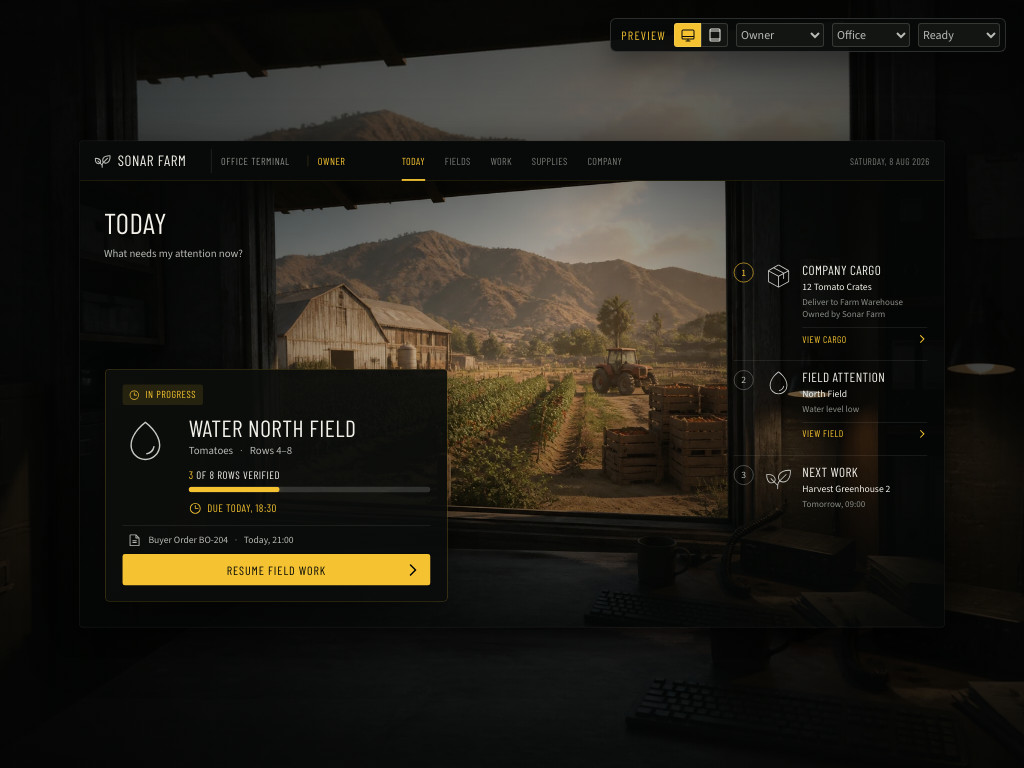
Test case: Farm Business Hub › switches surface without replacing the app content
Step 1. Click the button named "Farm Tablet" → (714, 35), box [701,23,728,47]
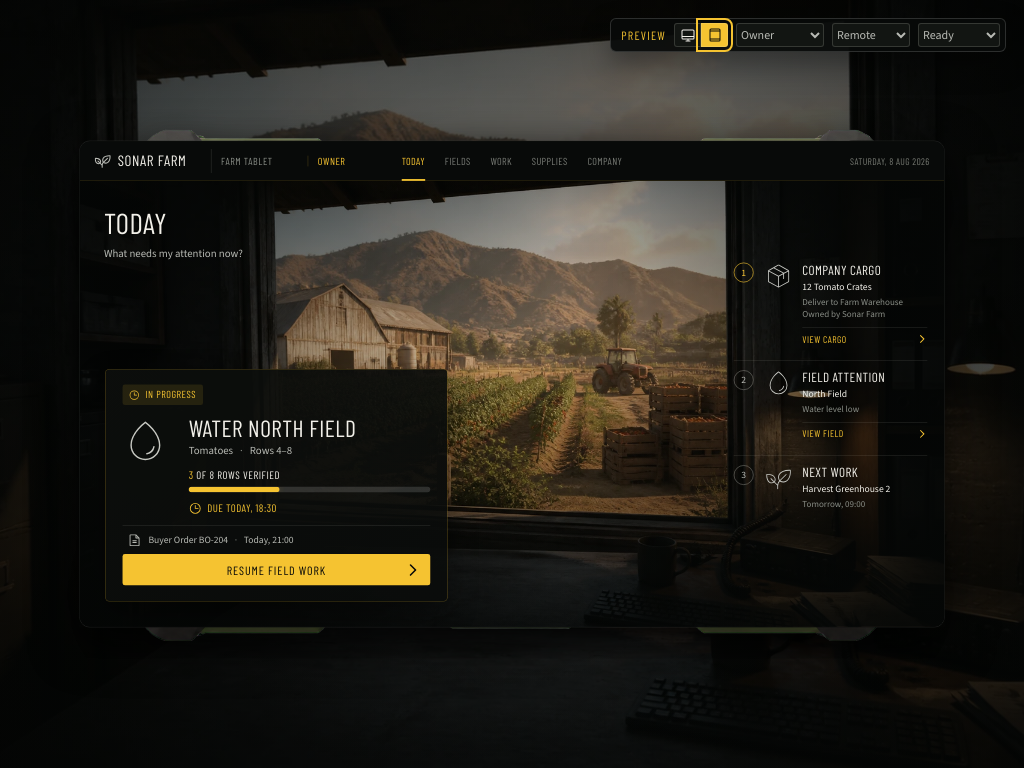
Expected: the heading "Water North Field" is shown, [189,413,356,442]
Result: the text "Farm Tablet" is shown at [221,154,273,166]
